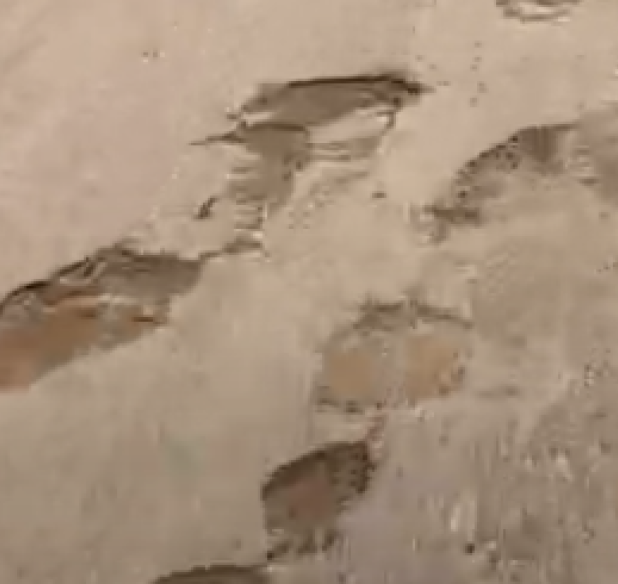Berlubang: (206, 70, 424, 232), (1, 247, 236, 388), (283, 278, 503, 428), (421, 123, 603, 257), (248, 423, 398, 567), (145, 561, 270, 584), (491, 1, 593, 25)
